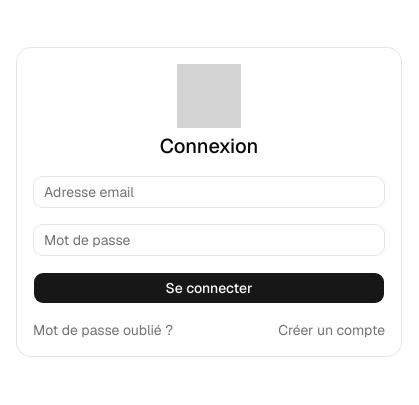
Test: LoginPage › clears error when attempting new login
Type "user@test.com" into the field with placeholder "Adresse email".
click(209, 192); type("user@test.com")  # box [33,176,385,208]
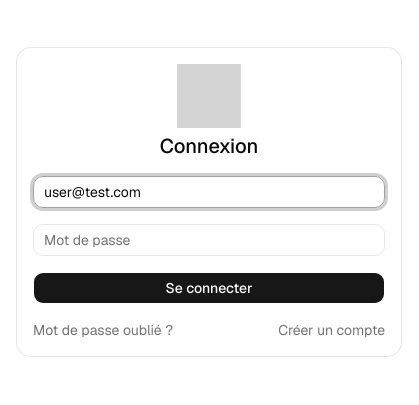
Type "wrongpass" into the password field with placeholder "Mot de passe".
click(209, 240); type("wrongpass")  # box [33,224,385,256]
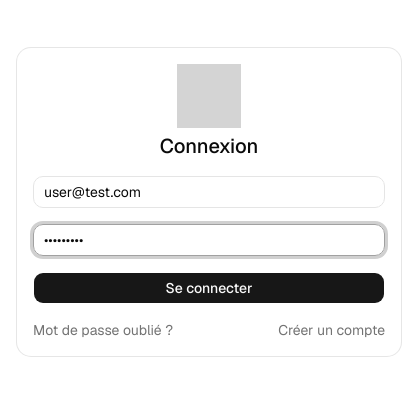
Click the button "Se connecter".
click(209, 288)  # box [33,272,385,304]
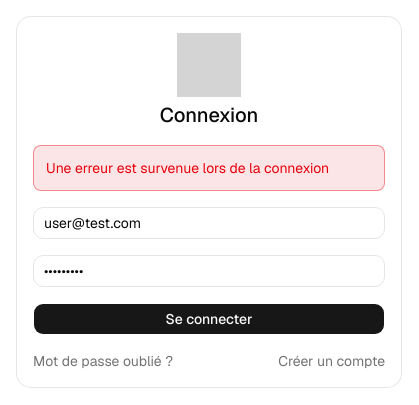
Expected: the text "Une erreur est survenue lors de la connexion" is shown, [33,145,385,191]
Click the button "Se connecter".
click(209, 319)  # box [33,303,385,335]
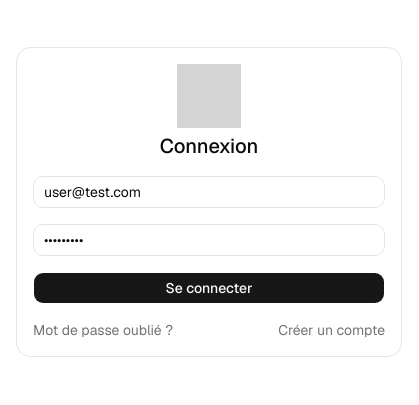
Expected: the text "Une erreur est survenue lors de la connexion" is gone
